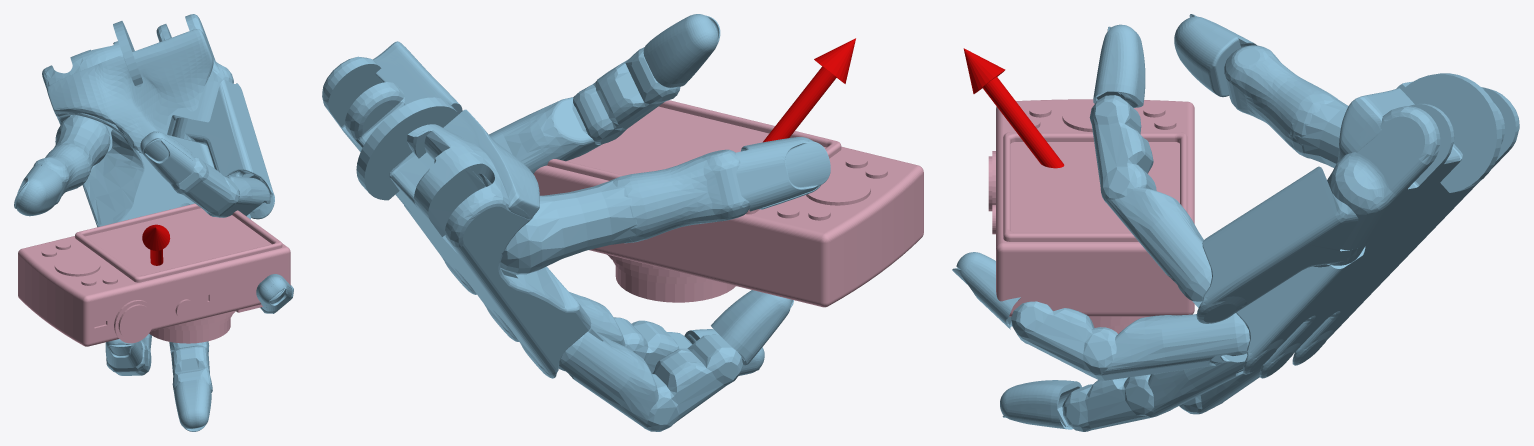
3 views of the same model, side by side, from view 1: azimuth 30°, elevation 25°; view 2: azimuth 150°, elevation 25°; view 3: azimuth 270°, elevation 25° (orthographic). The views are drawn at different scales.
Parts seen in each view (by area): view 1: world, camera.stl; view 2: world, camera.stl; view 3: world, camera.stl.
Boxes of the visible parts, left/top/right/bottom form: world: left=14, top=14, right=293, bottom=431; camera.stl: left=18, top=203, right=290, bottom=346; world: left=322, top=14, right=855, bottom=431; camera.stl: left=533, top=100, right=923, bottom=307; world: left=952, top=14, right=1519, bottom=431; camera.stl: left=988, top=99, right=1194, bottom=333.
Bounding box in the file's own units: 0.1521 × 0.1468 × 0.1849.
